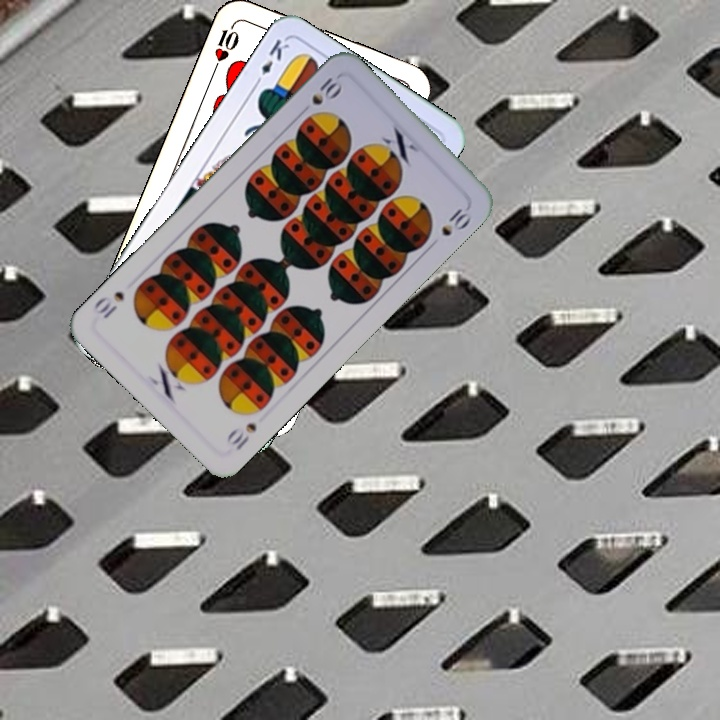EK: (250, 34, 292, 89)
H10: (209, 18, 242, 75)
S10: (307, 73, 346, 108), (222, 418, 259, 453)
